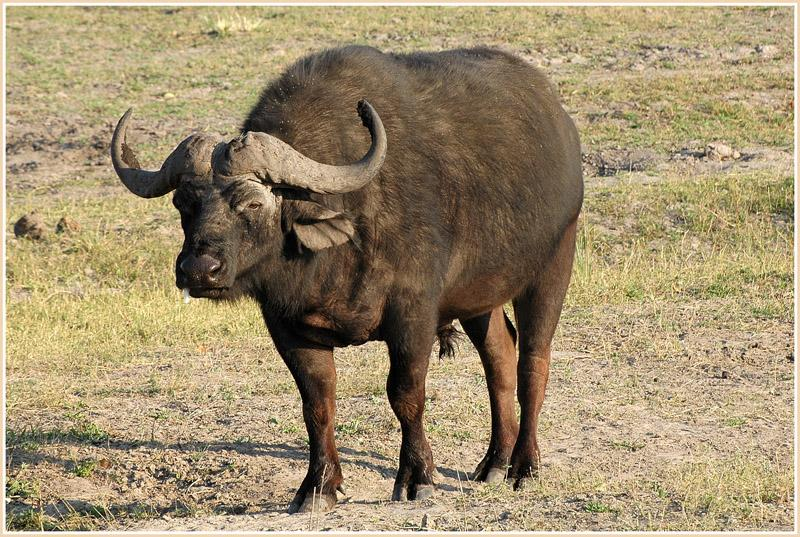Buffalo: (29, 35, 634, 535)
